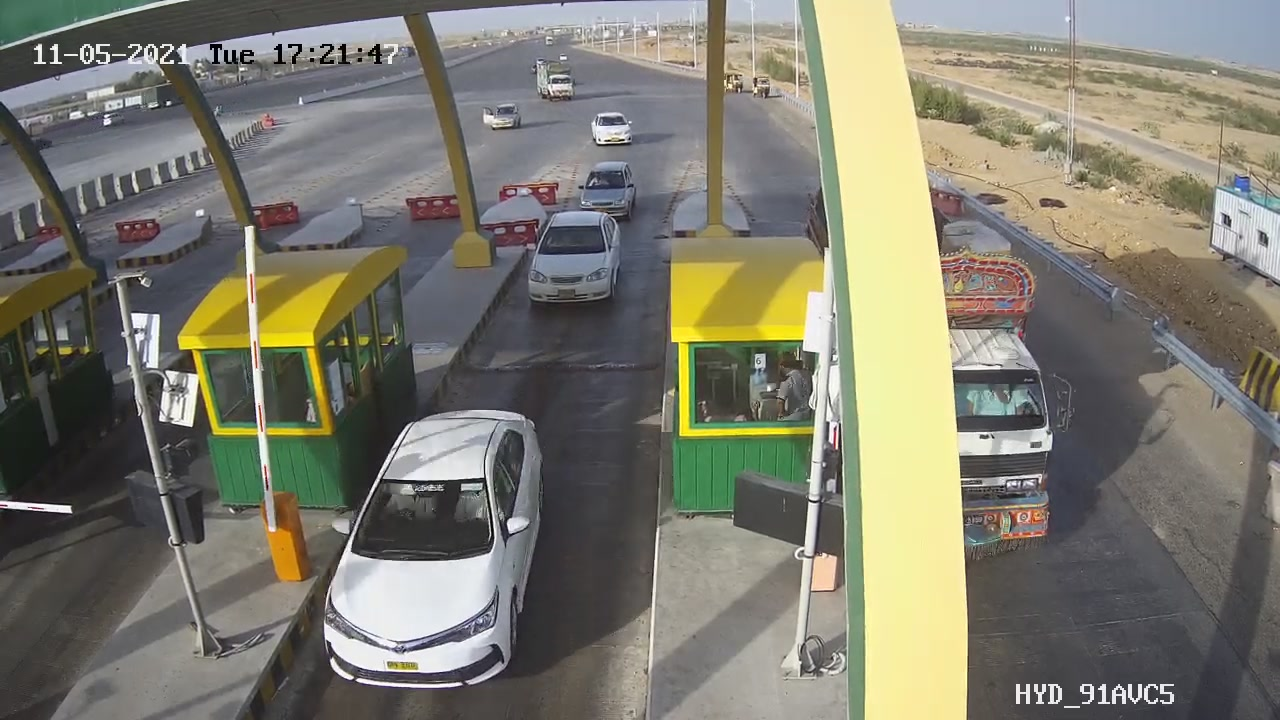F1: (509, 201, 640, 318)
